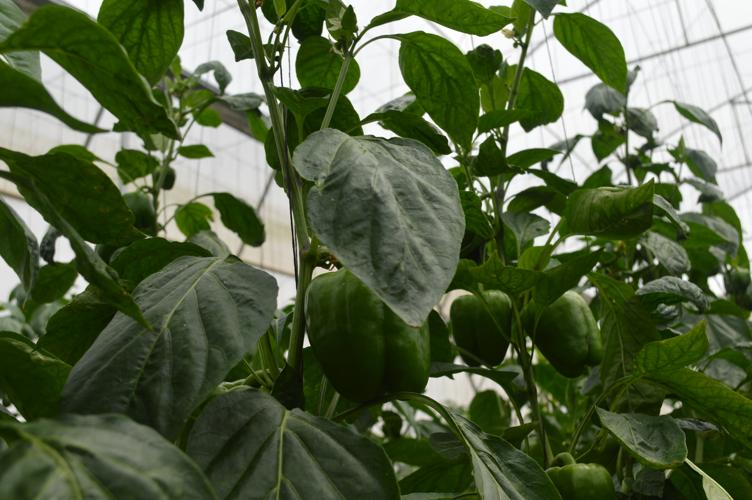BellPepper: (305, 272, 434, 396), (530, 283, 609, 372), (449, 285, 513, 376), (545, 447, 617, 500)
